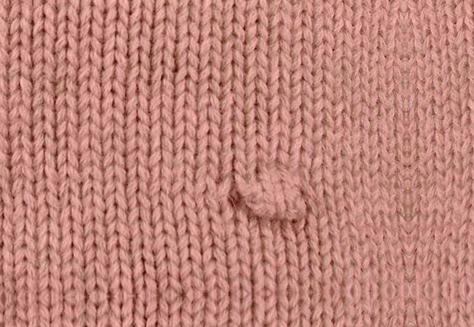knot: (231, 168, 316, 227)
